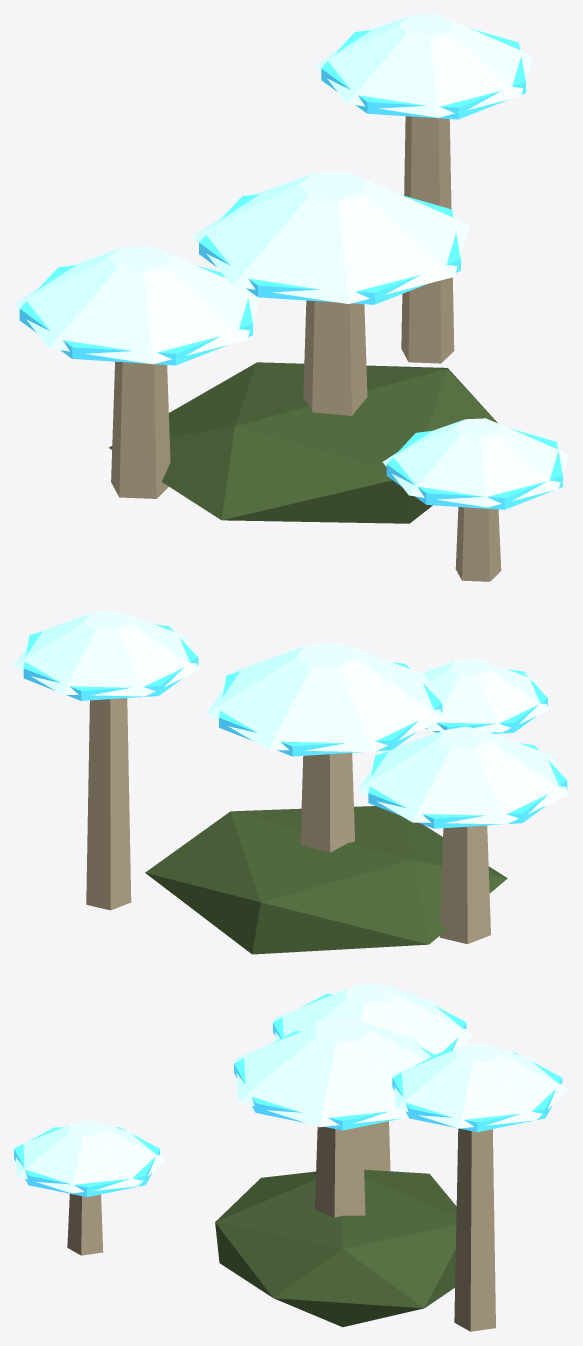
Rendered from glowcap_cluster_2.glb.
3 renders of one model, top to bottom at view 1: azimuth 30°, elevation 25°; view 2: azimuth 150°, elevation 25°; view 3: azimuth 270°, elevation 25°, orthographic. The views are drawn at different scales.
Parts seen in each view (by area): view 1: glowcap_cluster_2; view 2: glowcap_cluster_2; view 3: glowcap_cluster_2.
Boxes of the visible parts, <box> form: glowcap_cluster_2: <box>14,14,568,581</box>; glowcap_cluster_2: <box>14,610,568,954</box>; glowcap_cluster_2: <box>14,983,568,1331</box>.
Size of the model in its own units: 0.4924 by 0.3092 by 0.5205.
